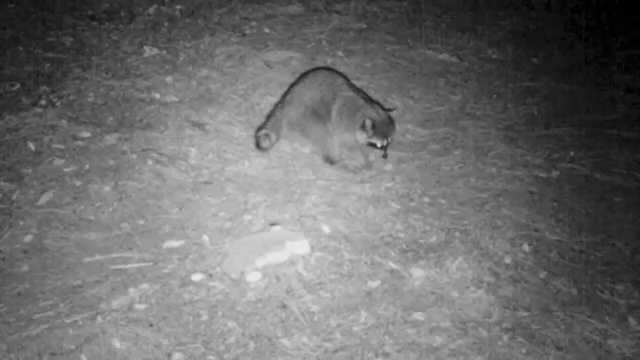raccoon: (255, 65, 403, 174)
